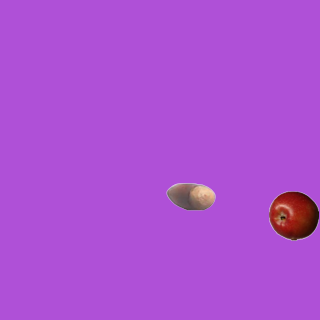Apple Braeburn: (268, 190, 318, 240)
Hazelnut: (165, 171, 215, 221)
